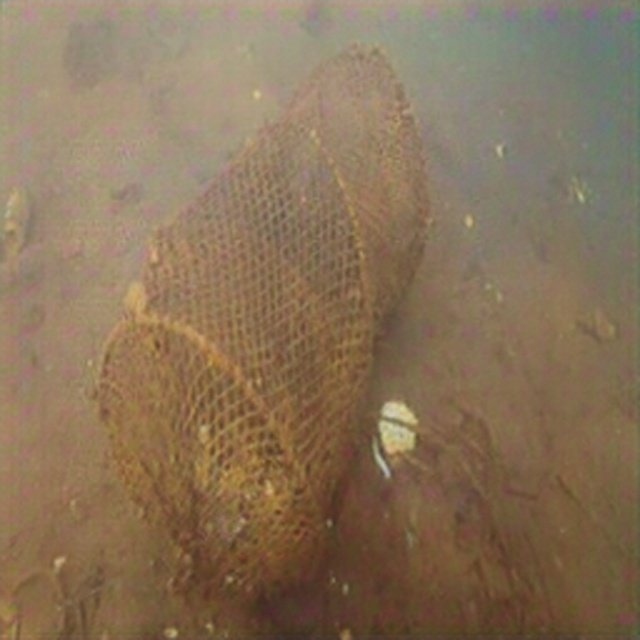mine: (92, 38, 429, 613)
